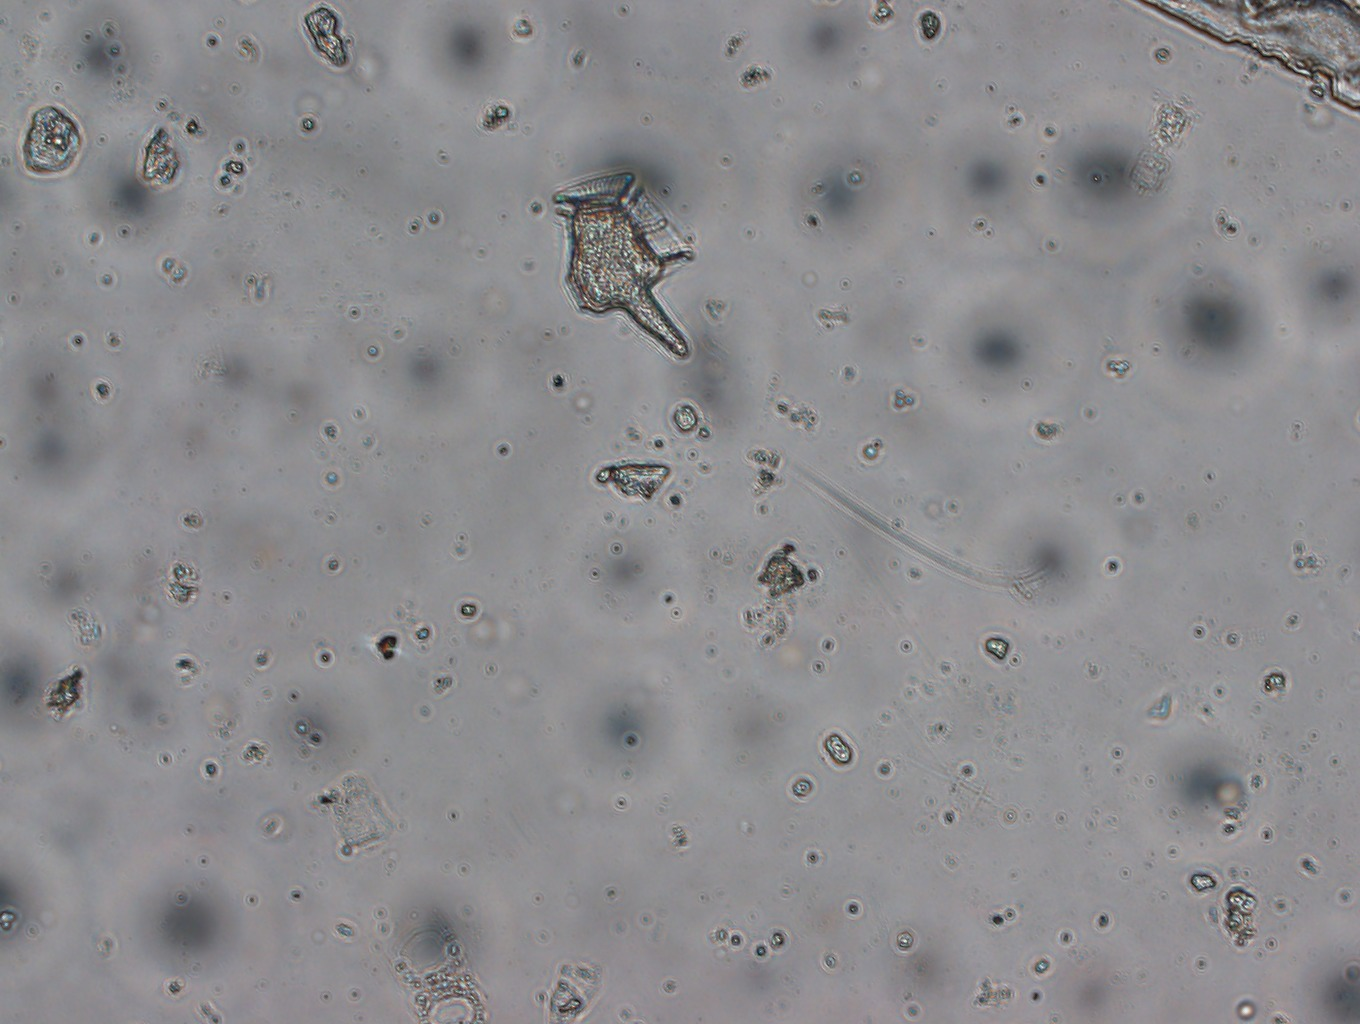dinophysis caudata: (546, 159, 720, 365)
